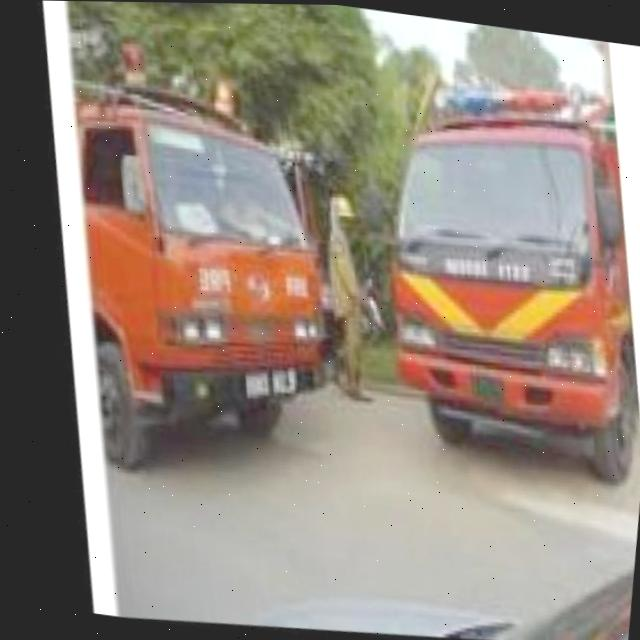emergency: (25, 65, 359, 493), (354, 56, 640, 483)
